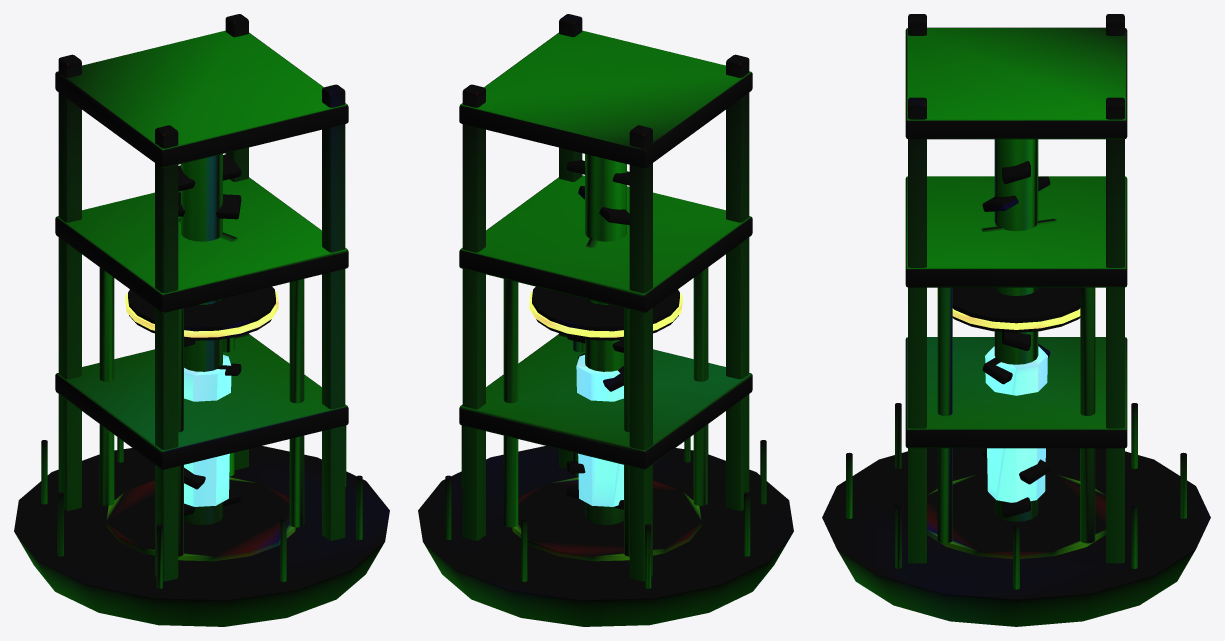
Rendered from hero_drill_rig.glb.
3 views of the same model, side by side, from view 1: azimuth 30°, elevation 25°; view 2: azimuth 150°, elevation 25°; view 3: azimuth 270°, elevation 25° (orthographic). The views are drawn at different scales.
Parts seen in each view (by area): view 1: HeroDrillRig; view 2: HeroDrillRig; view 3: HeroDrillRig.
Boxes of the visible parts, <box> form: HeroDrillRig: <box>14,14,389,626</box>; HeroDrillRig: <box>418,14,793,626</box>; HeroDrillRig: <box>822,14,1210,626</box>.
Size of the model in its own units: 5.7 by 8 by 5.7.
